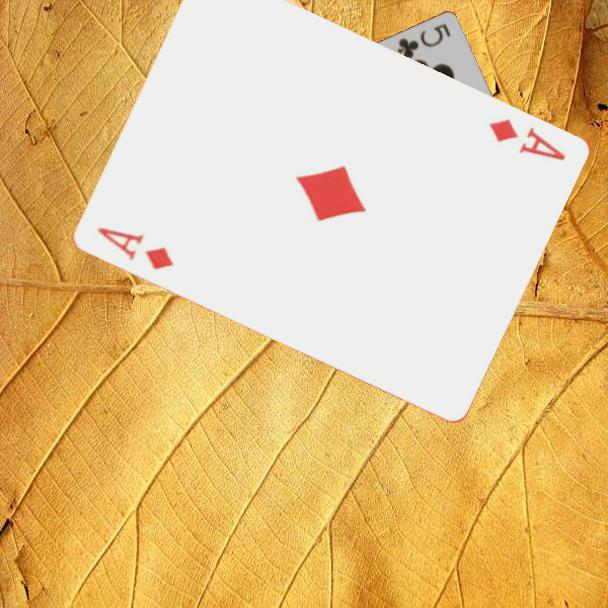c05: (393, 20, 453, 63)
d01: (94, 223, 178, 273), (485, 115, 569, 163)
